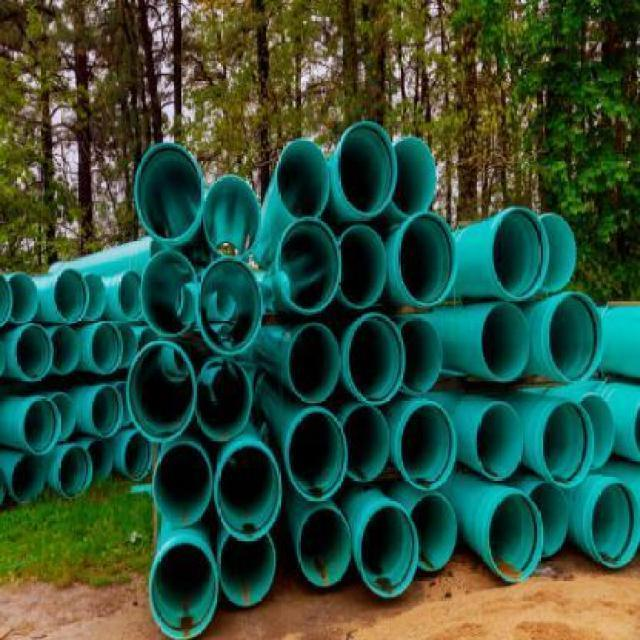pipe: (127, 340, 196, 442), (150, 540, 219, 639), (135, 142, 203, 242), (216, 443, 282, 542), (275, 217, 340, 316), (199, 259, 265, 356), (399, 213, 459, 310), (338, 122, 397, 216), (360, 505, 418, 599), (288, 411, 347, 502), (493, 208, 550, 301), (349, 314, 406, 407), (488, 492, 545, 583), (548, 294, 604, 385), (140, 251, 199, 337), (400, 403, 457, 491), (156, 443, 213, 528), (203, 176, 260, 259), (197, 359, 252, 442), (543, 402, 596, 488), (297, 506, 352, 586), (277, 139, 331, 220), (289, 323, 342, 405), (339, 226, 390, 309), (591, 482, 639, 570), (219, 535, 276, 608), (480, 303, 531, 383), (343, 405, 391, 483), (475, 402, 523, 479), (411, 496, 459, 573), (392, 137, 437, 217), (400, 317, 443, 394), (529, 481, 569, 557), (540, 213, 577, 293), (580, 394, 616, 471), (23, 397, 62, 455), (15, 325, 54, 382), (53, 268, 90, 324), (57, 446, 92, 500), (91, 385, 124, 439), (11, 457, 47, 505), (91, 323, 124, 374), (8, 272, 39, 325), (51, 326, 82, 374), (123, 432, 152, 480), (49, 392, 77, 440), (117, 271, 143, 320), (86, 273, 109, 322), (88, 440, 114, 483)
